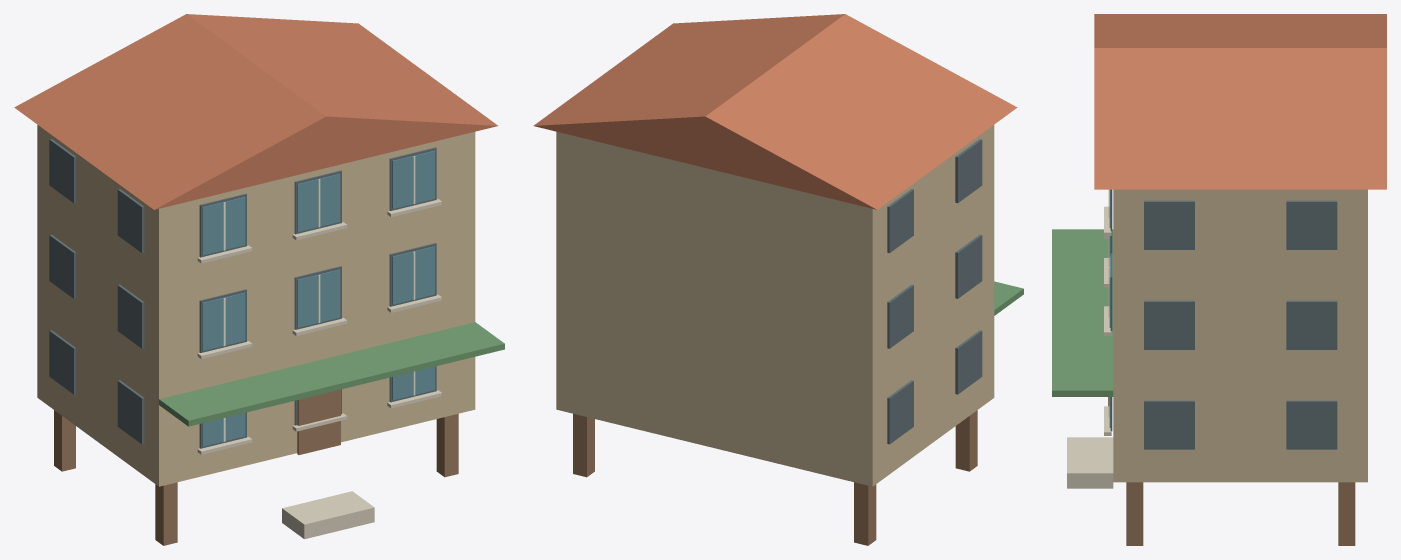
File: stilt-2.glb
3 views of the same model, side by side, from view 1: azimuth 30°, elevation 25°; view 2: azimuth 150°, elevation 25°; view 3: azimuth 270°, elevation 25° (orthographic). The views are drawn at different scales.
Size of the model in its own units: 9.8 by 11 by 7.9.
